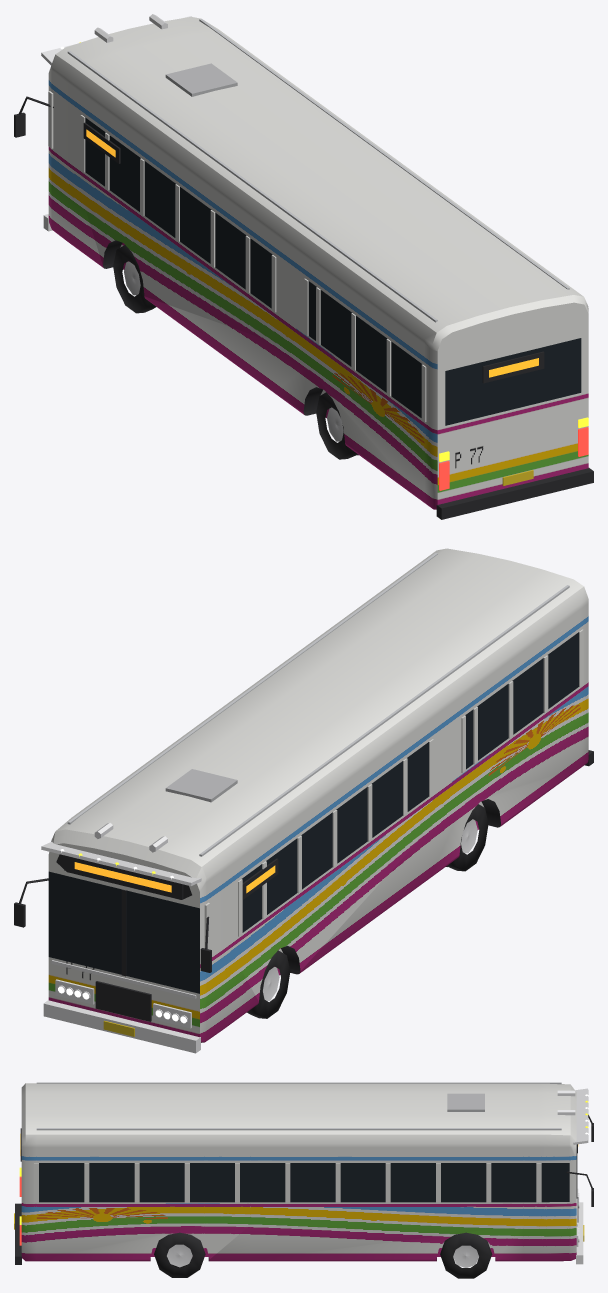
Rendered from bus_mofussil_lod1.glb.
3 views of the same model, one above another, from view 1: azimuth 30°, elevation 25°; view 2: azimuth 150°, elevation 25°; view 3: azimuth 270°, elevation 25° (orthographic). The views are drawn at different scales.
Parts seen in each view (by area): view 1: body, wheel_fl, wheel_rl, dest_rear, dest_side; view 2: body, dest_front, wheel_fl, wheel_rl; view 3: body, wheel_fr, wheel_rr.
Part boxes in pixels (x1=…): body: x1=14, y1=14, x2=593, y2=519; wheel_fl: x1=113, y1=245, x2=156, y2=313; wheel_rl: x1=316, y1=392, x2=358, y2=459; dest_rear: x1=482, y1=351, x2=544, y2=383; dest_side: x1=83, y1=122, x2=120, y2=163; body: x1=14, y1=548, x2=593, y2=1053; dest_front: x1=64, y1=855, x2=183, y2=899; wheel_fl: x1=247, y1=950, x2=290, y2=1018; wheel_rl: x1=446, y1=804, x2=488, y2=871; body: x1=14, y1=1082, x2=593, y2=1264; wheel_fr: x1=440, y1=1232, x2=492, y2=1278; wheel_rr: x1=154, y1=1232, x2=205, y2=1277.
Size of the model in its own units: 3.22 by 3.39 by 11.55.
Materials: 2 (2 with a texture image).
